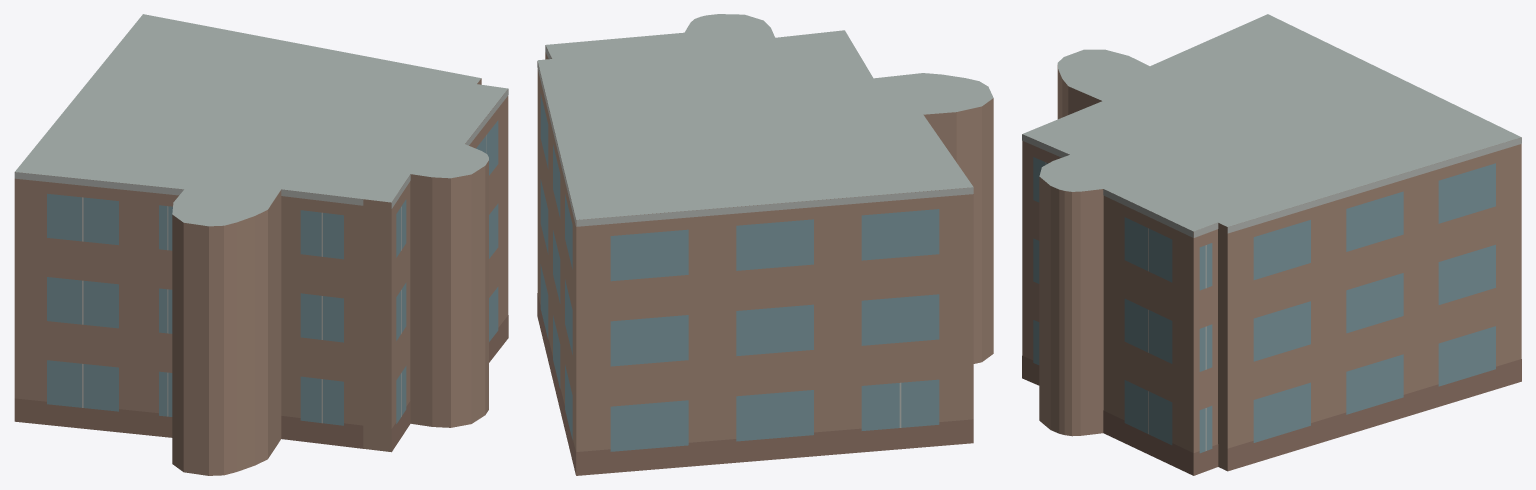
File: survey-upis-32469266.glb
3 views of the same model, side by side, from view 1: azimuth 30°, elevation 25°; view 2: azimuth 150°, elevation 25°; view 3: azimuth 270°, elevation 25° (orthographic). The views are drawn at different scales.
Parts seen in each view (by area): view 1: survey-upis-32469266.tmp; view 2: survey-upis-32469266.tmp; view 3: survey-upis-32469266.tmp.
Boxes of the visible parts, x1,y1,x2,y2 form: survey-upis-32469266.tmp: [14, 14, 508, 475]; survey-upis-32469266.tmp: [537, 14, 993, 475]; survey-upis-32469266.tmp: [1022, 14, 1521, 475].
Bounding box in the file's own units: 17.49 × 9.15 × 16.97.
